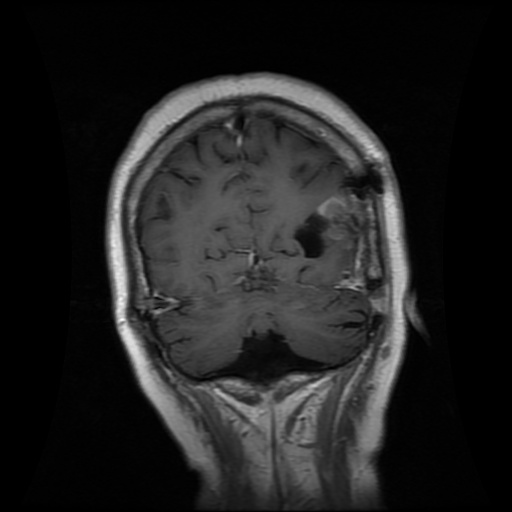glioma: (294, 191, 368, 258)
